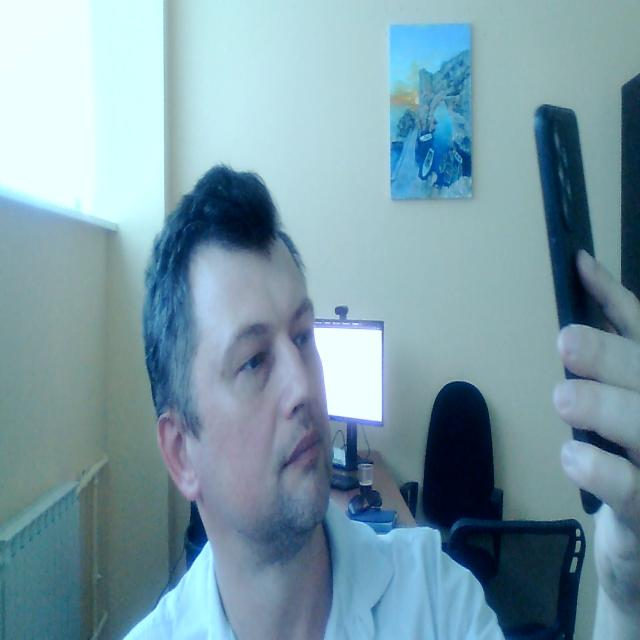phone: (534, 101, 619, 514)
